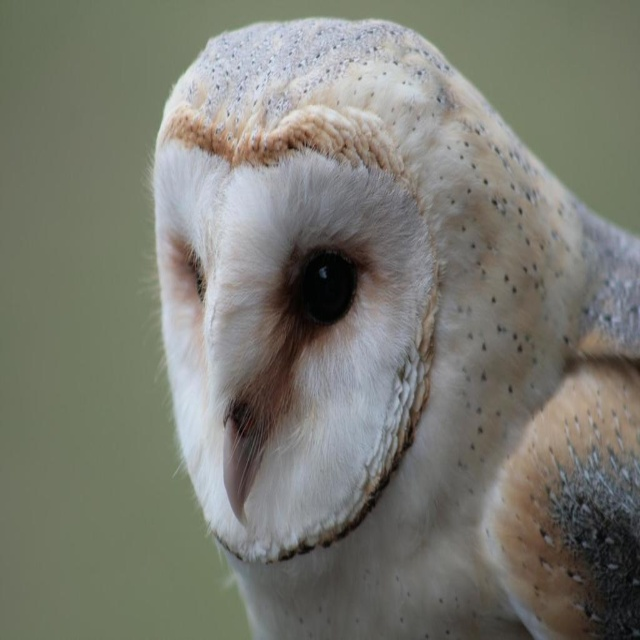Owl: (151, 14, 640, 639)
